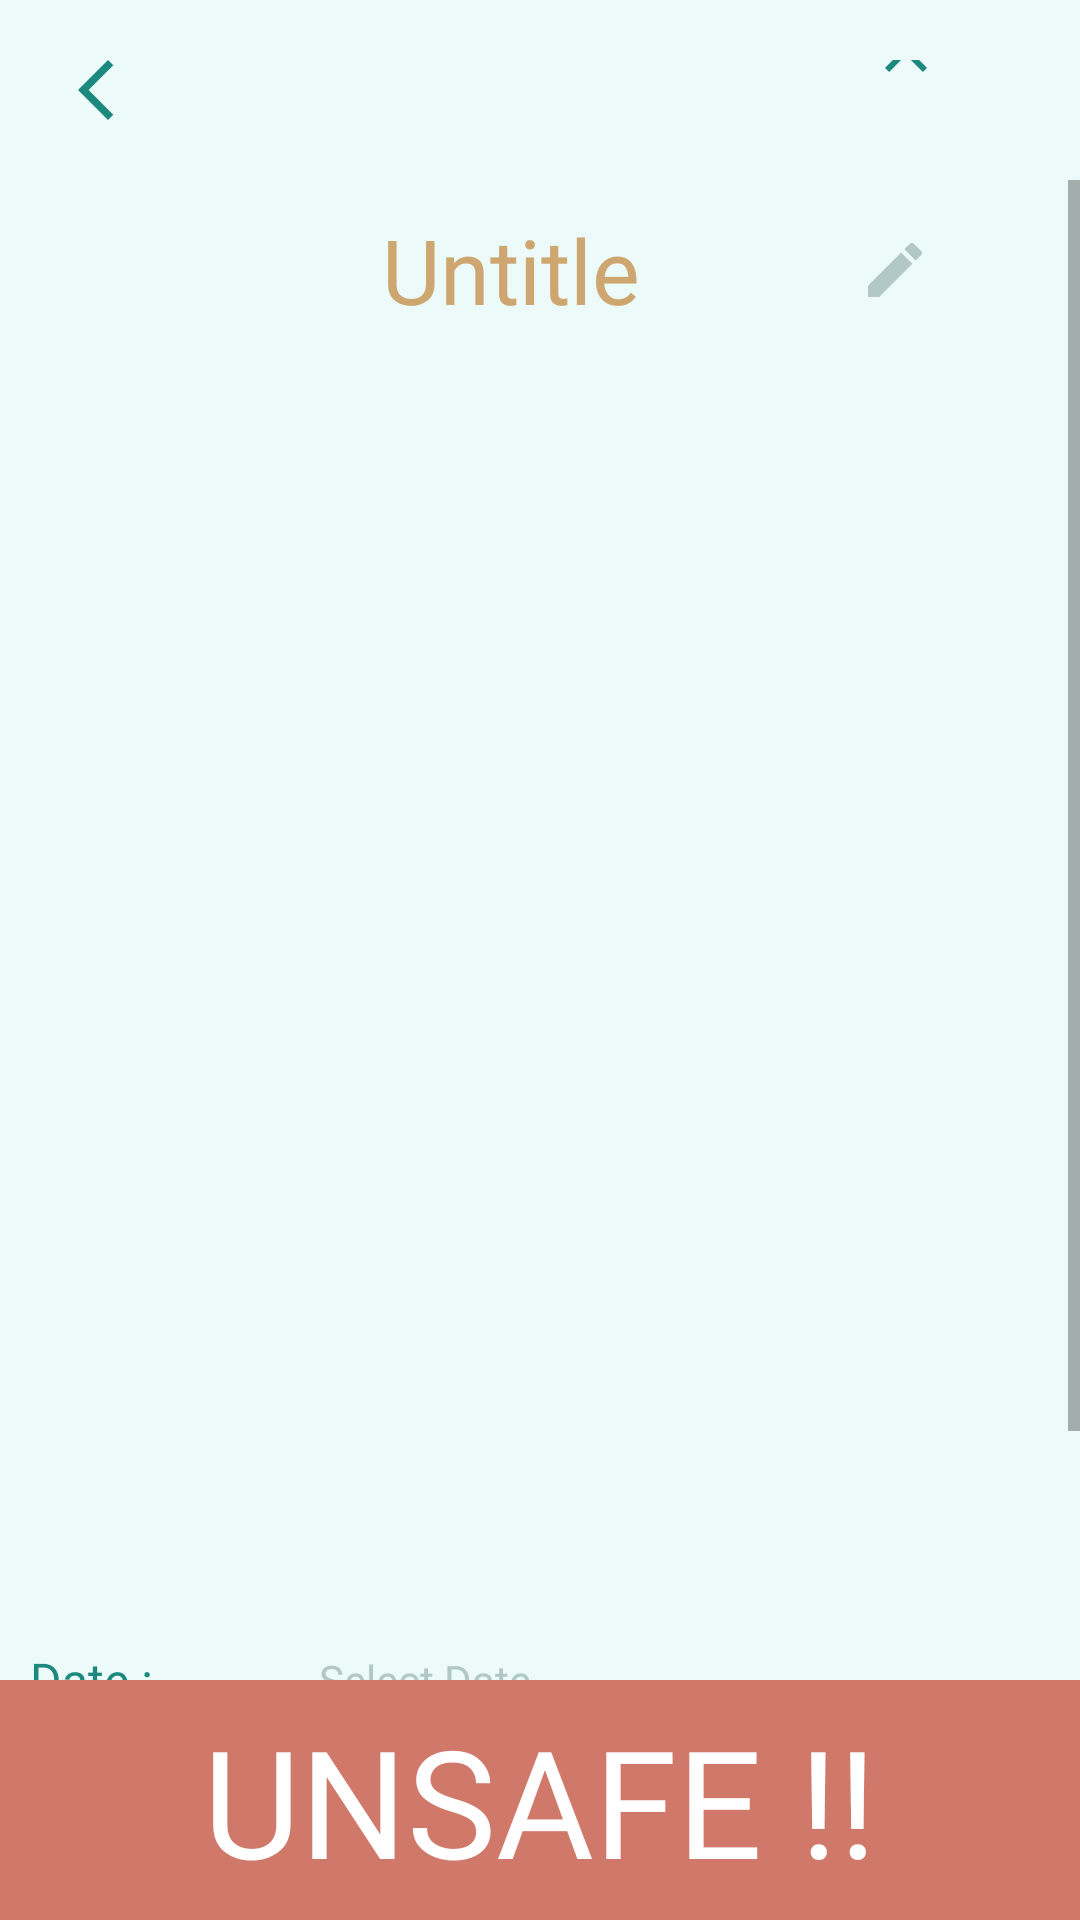

Icon click points for this 1080*1920 phone screenshot, format [x,y]:
arrow: [95,90]
edit: [895,270]
